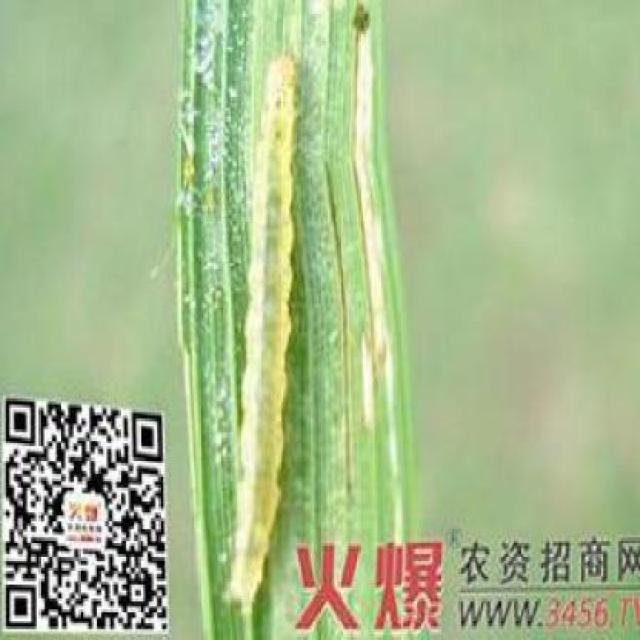leaf-folder: (209, 44, 310, 612)
